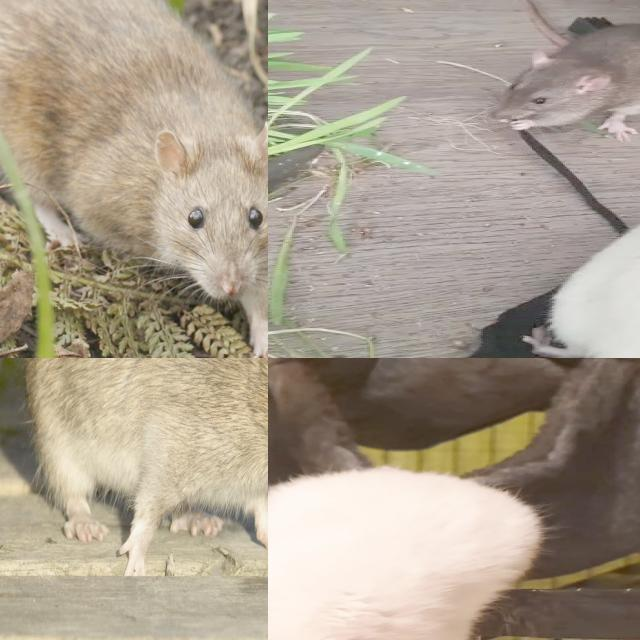rat: (0, 0, 268, 347), (25, 358, 268, 560), (268, 467, 550, 640), (479, 18, 640, 149), (546, 180, 640, 358)
